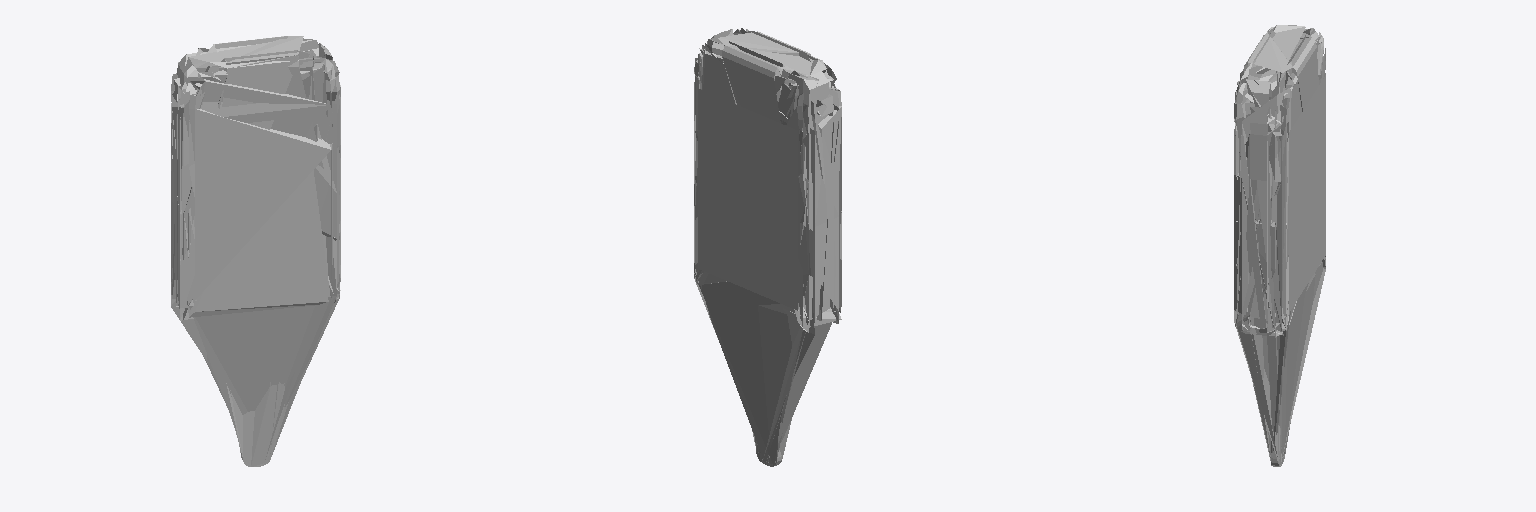
The model's file is Popsicle.obj.
3 views of the same model, side by side, from view 1: azimuth 30°, elevation 25°; view 2: azimuth 150°, elevation 25°; view 3: azimuth 270°, elevation 25° (orthographic).
Visible parts, largest first — view 1: Box003, Box004; view 2: Box003; view 3: Box003.
Boxes of the visible parts, box(x1,y1,x2,y2) form: Box003: box(171, 36, 340, 466); Box004: box(241, 411, 270, 466); Box003: box(694, 28, 841, 465); Box003: box(1234, 25, 1325, 466).
Size of the model in its own units: 652634 by 1761375 by 351600.